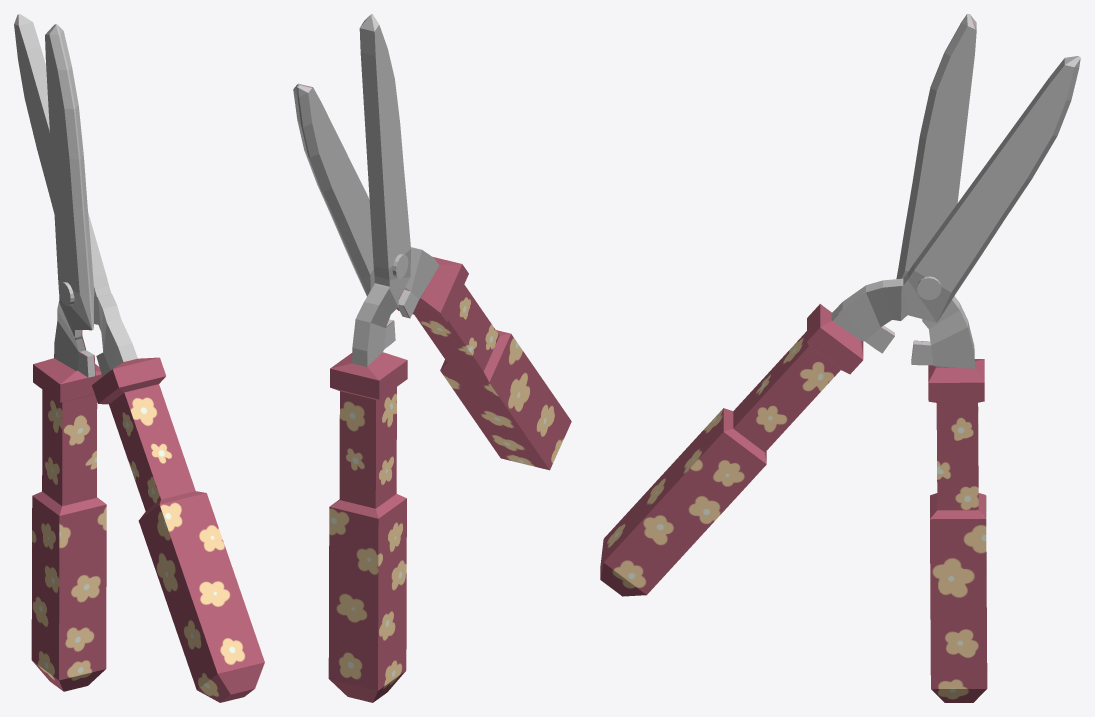
The model's file is scissors.fbx.
The picture shows the model from 3 angles, left to right: view 1: azimuth 30°, elevation 25°; view 2: azimuth 150°, elevation 25°; view 3: azimuth 270°, elevation 25°; orthographic projection. The views are drawn at different scales.
Visible parts, largest first — view 1: Cube.002, Cube.001; view 2: Cube.002, Cube.001; view 3: Cube.001, Cube.002.
Boxes of the visible parts, bbox=[...] form: Cube.002: bbox=[31, 24, 106, 691]; Cube.001: bbox=[14, 14, 264, 702]; Cube.002: bbox=[328, 14, 410, 702]; Cube.001: bbox=[293, 83, 571, 470]; Cube.001: bbox=[600, 56, 1080, 596]; Cube.002: bbox=[896, 14, 987, 702].
Bounding box in the file's own units: 37.19 × 495 × 318.
